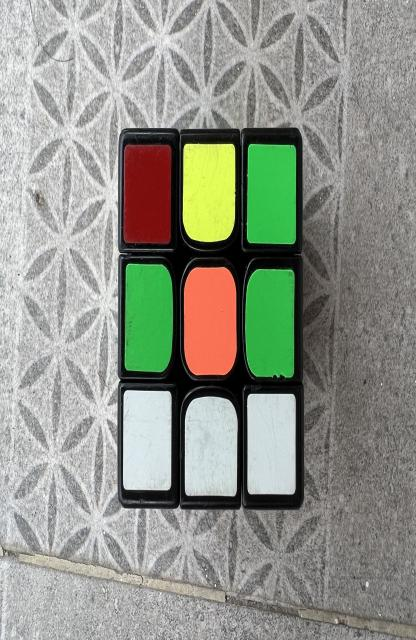Green: (245, 268, 295, 378), (124, 263, 173, 372), (247, 143, 297, 245)
Orange: (184, 267, 237, 375)
Red: (124, 145, 171, 243)
White: (184, 397, 238, 497), (247, 393, 296, 495), (123, 390, 171, 490)
Yellow: (183, 143, 236, 242)
